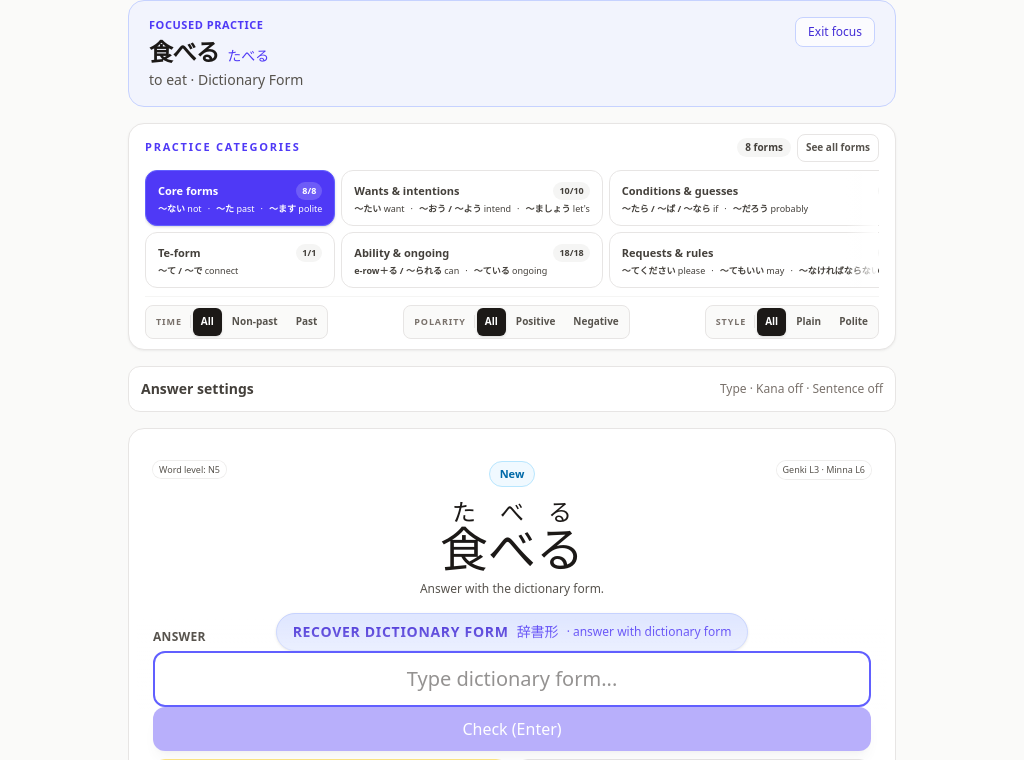
Test case: StudyView continuous Practice startup › auto-converts reading-practice answers in the text input
The image size is (1024, 760).
Type "oki" into the field with placeholder "Type dictionary form..." at (512, 679), box [153, 651, 871, 707]
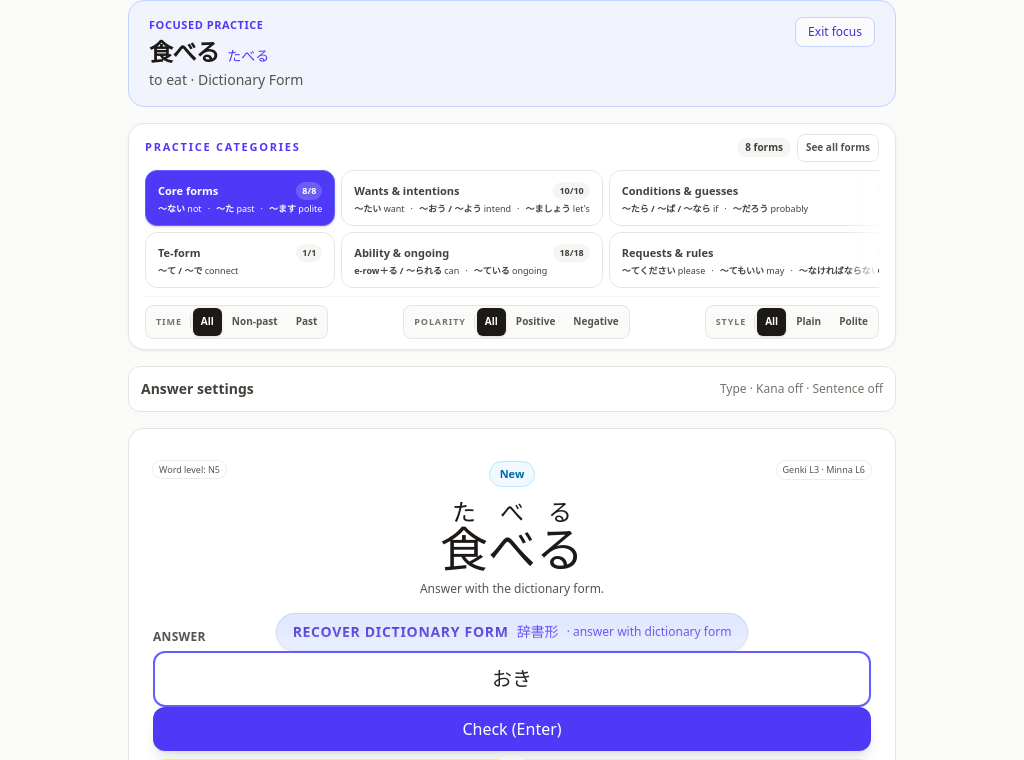
Expected: the field with placeholder "Type dictionary form..." holds "おき", [153, 651, 871, 707]
